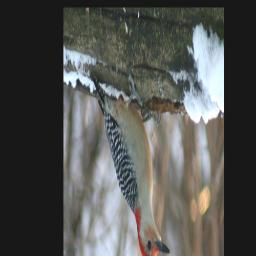Woodpecker: (91, 73, 171, 256)
